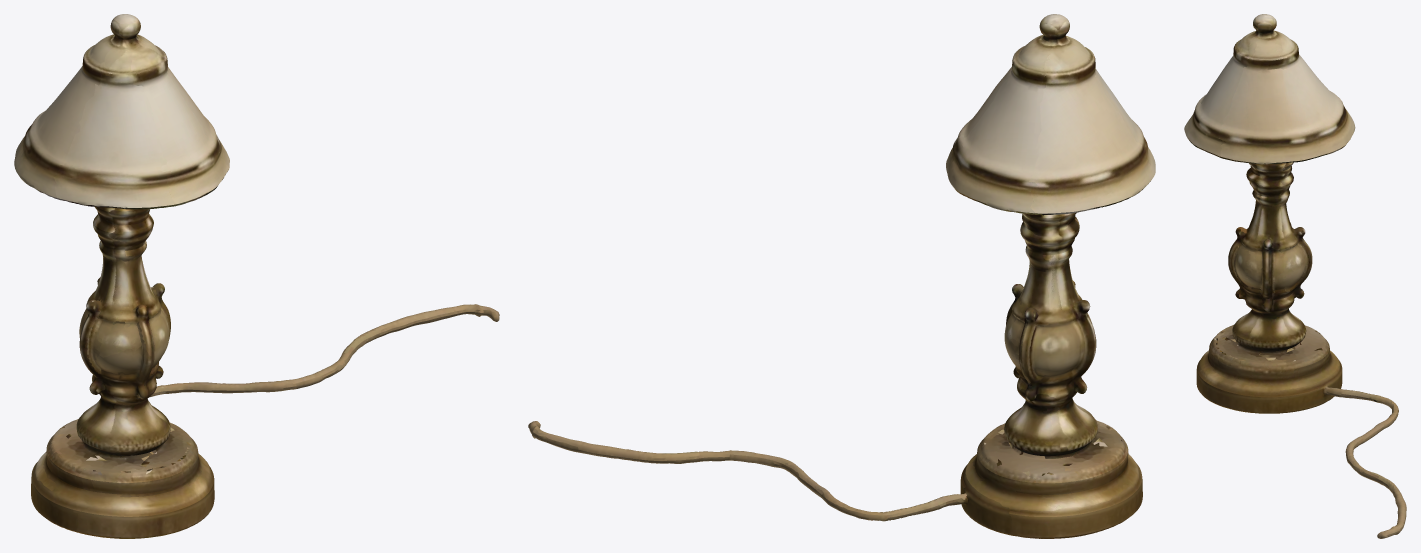
Rendered from lamp.glb.
The picture shows the model from 3 angles, left to right: view 1: azimuth 30°, elevation 25°; view 2: azimuth 150°, elevation 25°; view 3: azimuth 270°, elevation 25°; orthographic projection. The views are drawn at different scales.
Visible parts, largest first — view 1: tmpk8w2kkth.ply; view 2: tmpk8w2kkth.ply; view 3: tmpk8w2kkth.ply.
Part boxes in pixels (<box>): tmpk8w2kkth.ply: <box>14,14,499,538</box>; tmpk8w2kkth.ply: <box>528,14,1155,538</box>; tmpk8w2kkth.ply: <box>1184,14,1406,538</box>.
Size of the model in its own units: 1.96 by 1.68 by 0.9141.
1 material, 1 textured.
